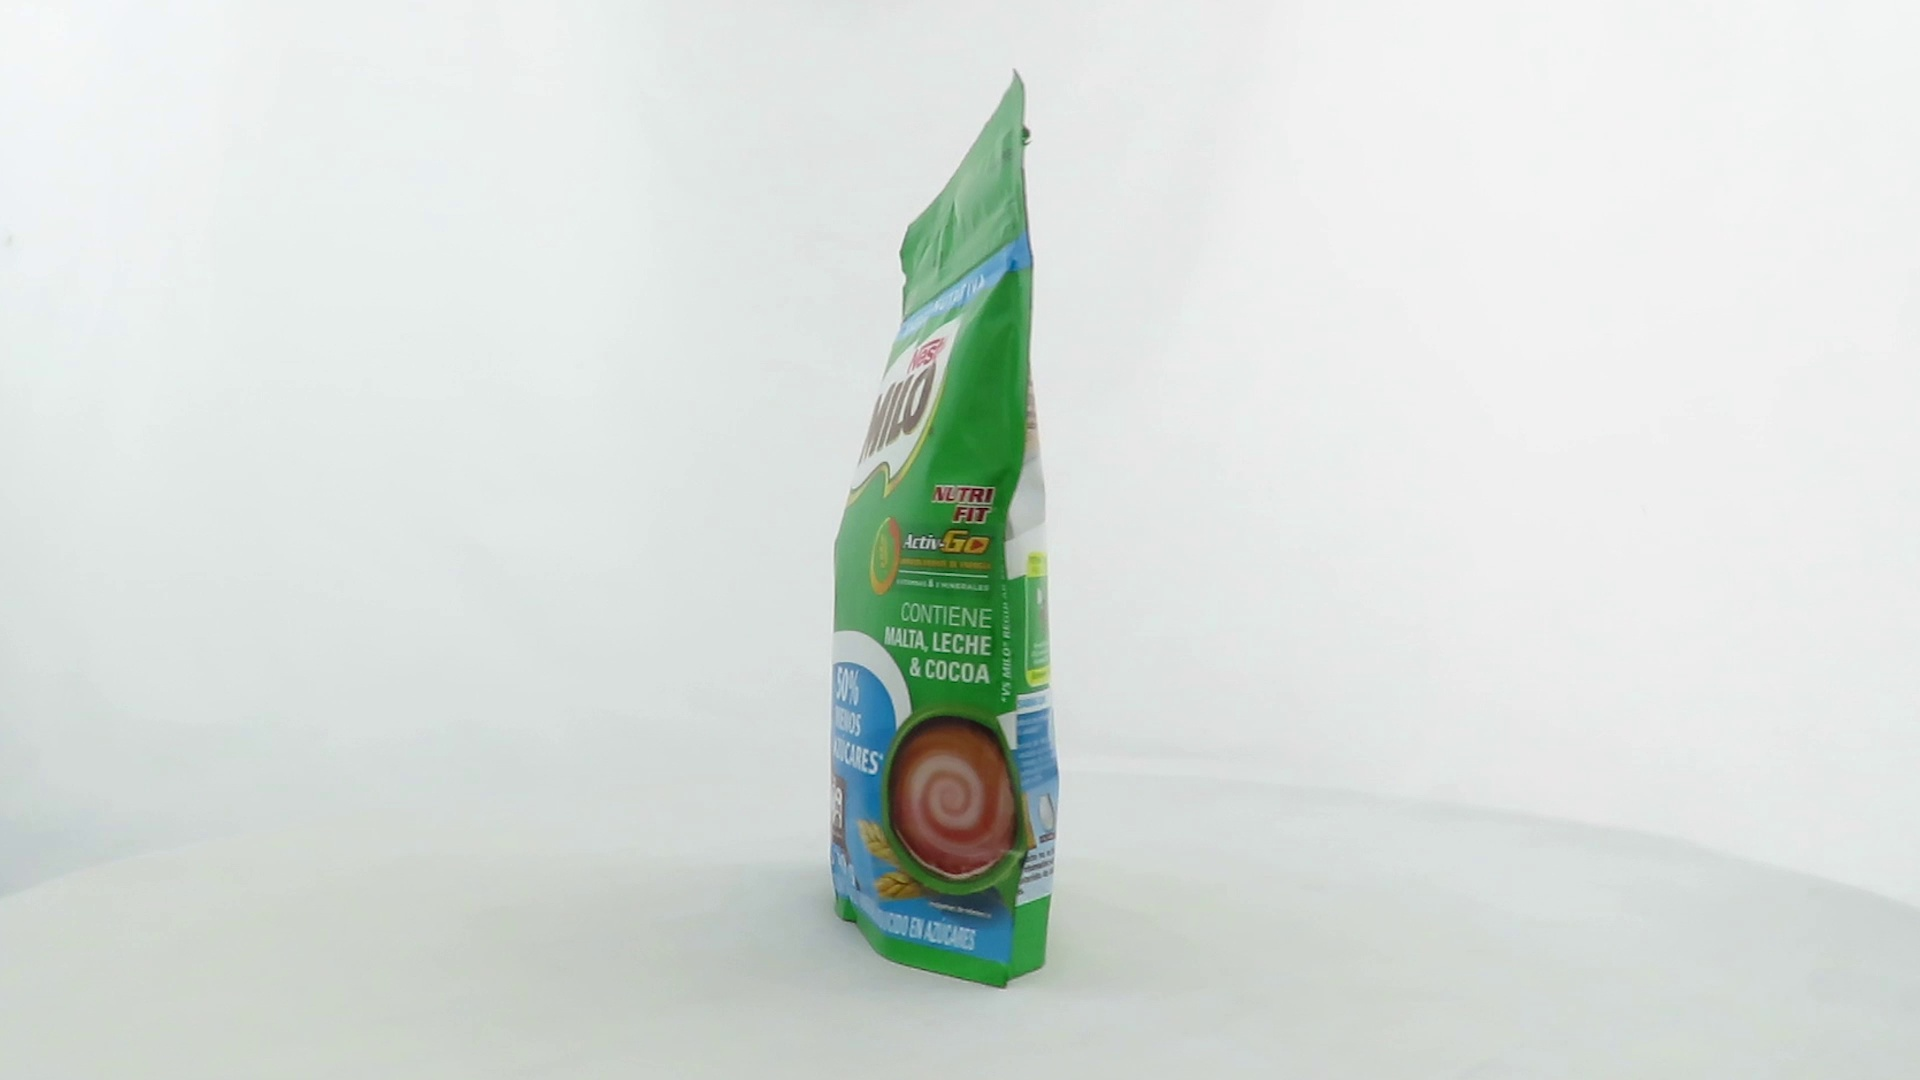COL0170205DYP20000: (825, 63, 1065, 996)
